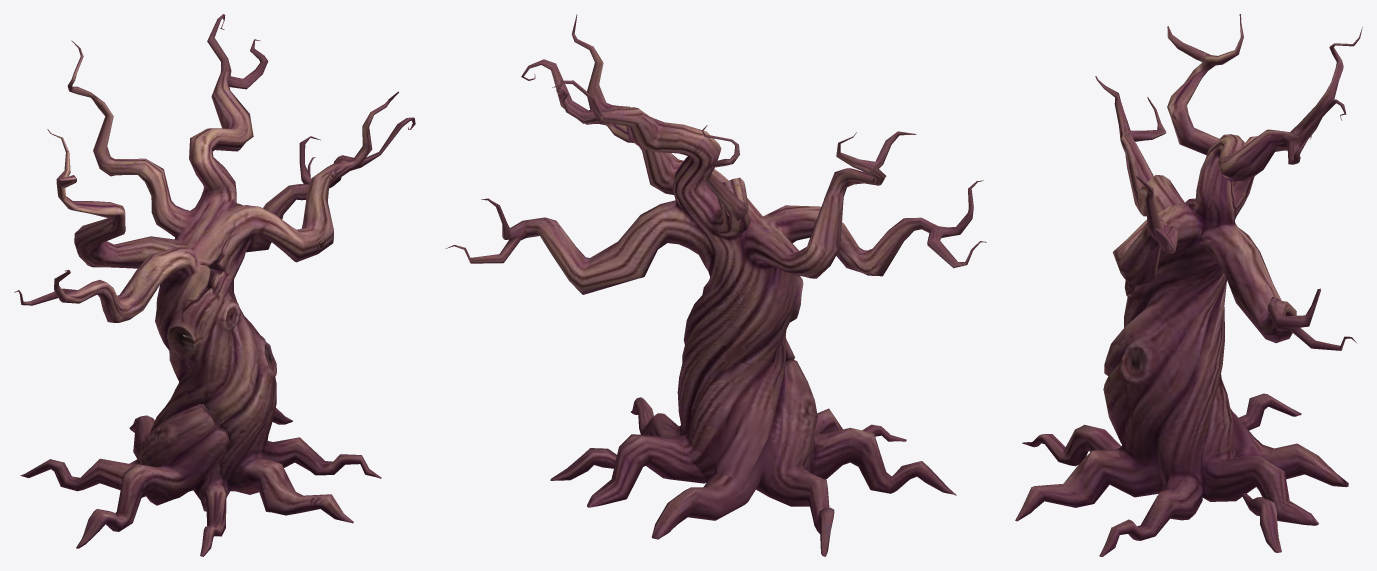
File: prop_tree.glb
The picture shows the model from 3 angles, left to right: view 1: azimuth 30°, elevation 25°; view 2: azimuth 150°, elevation 25°; view 3: azimuth 270°, elevation 25°; orthographic projection. The views are drawn at different scales.
Parts seen in each view (by area): view 1: prop_tree; view 2: prop_tree; view 3: prop_tree.
Part boxes in pixels (box(x1,y1,x2,y2)): prop_tree: box(14, 14, 415, 556); prop_tree: box(445, 14, 986, 556); prop_tree: box(1015, 14, 1362, 556).
Bounding box in the file's own units: 4.14 × 3.8 × 2.78.
1 material, 1 textured.
